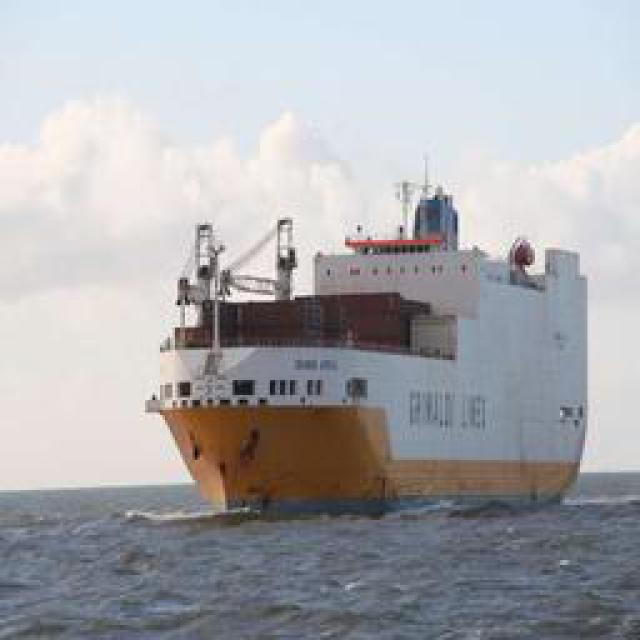Ship: (155, 156, 585, 526)
